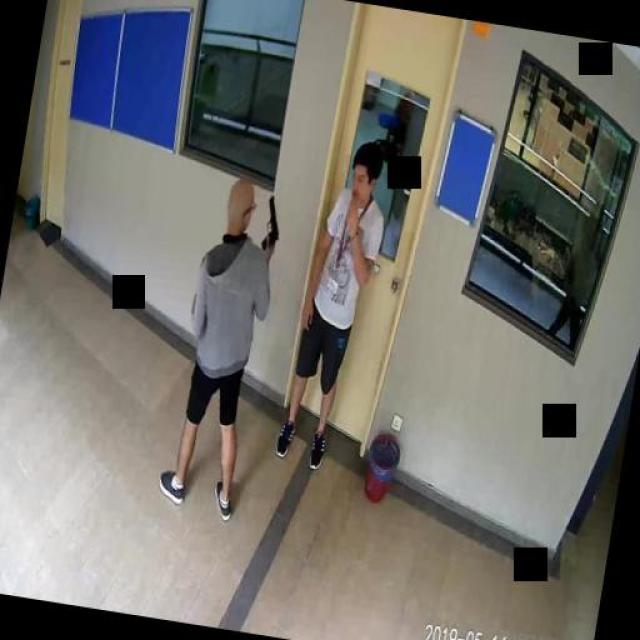gun: (257, 191, 285, 250)
